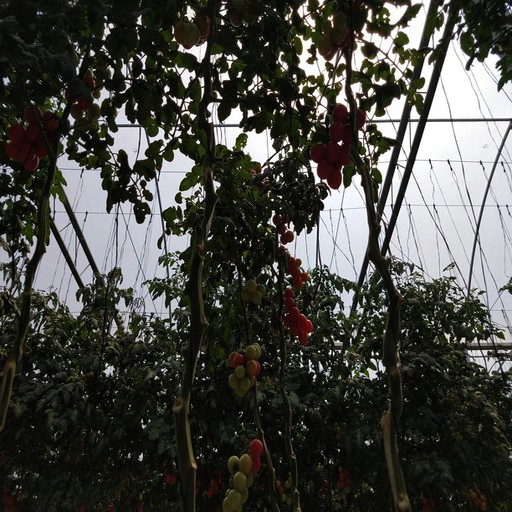green tomato bunch: (223, 436, 265, 510), (224, 342, 265, 397), (239, 280, 267, 304)
mixed tomato bunch: (314, 9, 357, 60), (174, 13, 215, 47)
red tomato bunch: (310, 105, 370, 191), (5, 104, 65, 174), (283, 285, 311, 345), (278, 253, 313, 291), (274, 210, 294, 242)
